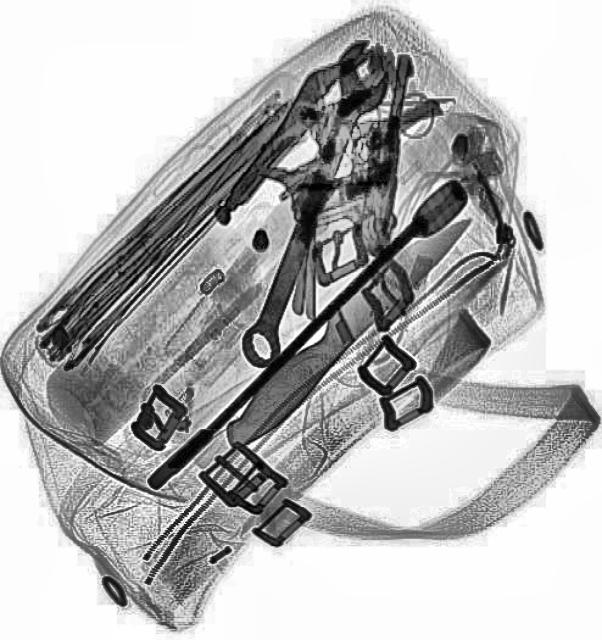Gun: (288, 44, 412, 255)
Knife: (210, 198, 486, 454)
Wrench: (219, 31, 401, 372)
